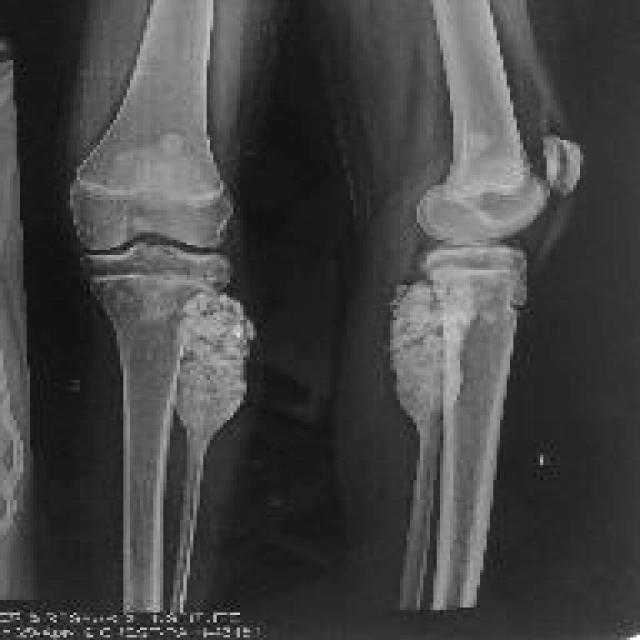bone-cancer: (172, 292, 253, 449), (390, 280, 478, 423)
